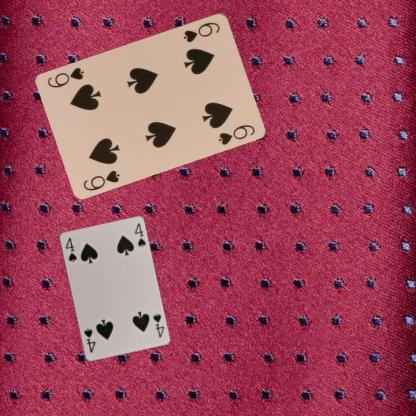4s: (63, 234, 78, 263), (150, 311, 165, 338)
6s: (81, 167, 121, 192), (181, 19, 221, 43)
